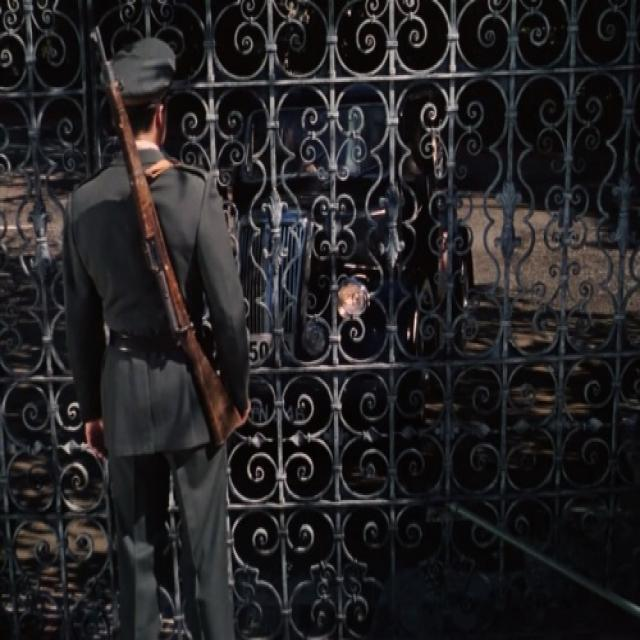rifle: (88, 18, 247, 452)
